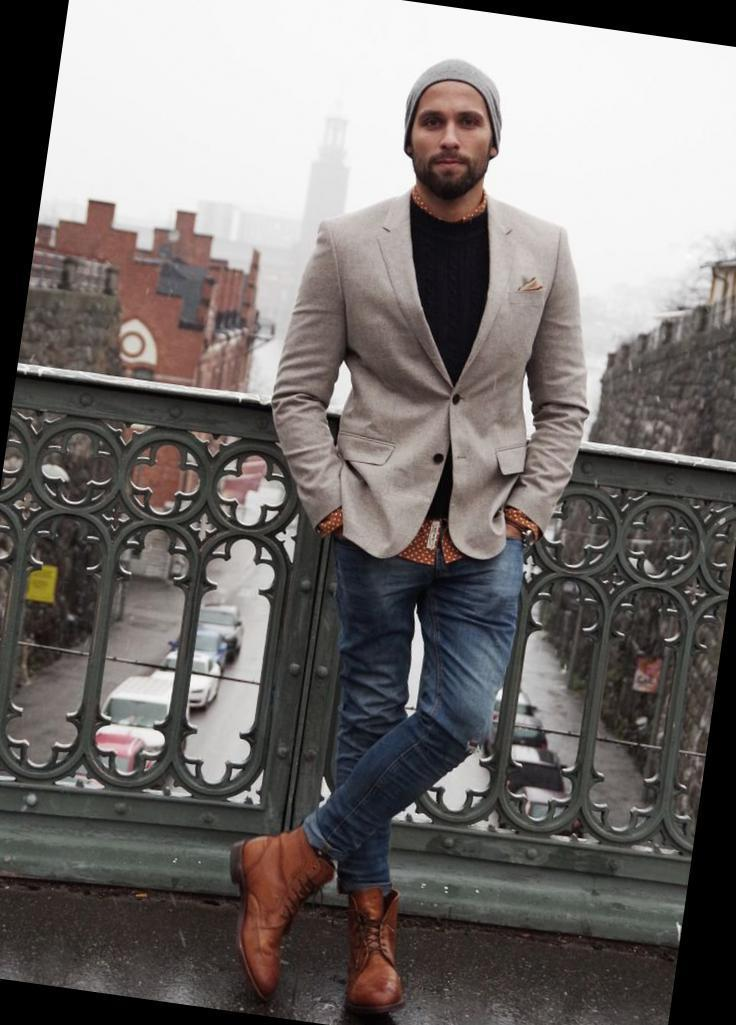Sober: (409, 82, 497, 180)
